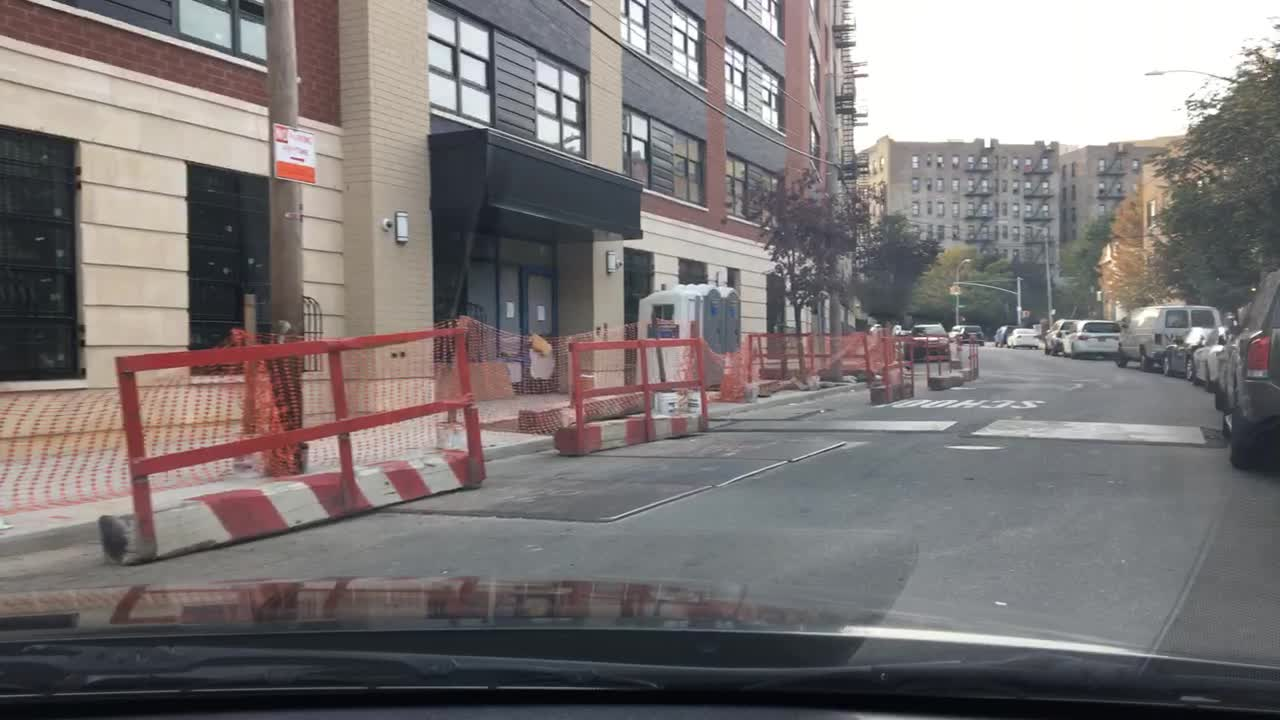car: (1157, 325, 1207, 379), (1183, 335, 1230, 392), (1062, 318, 1123, 356), (906, 320, 952, 359), (1043, 319, 1075, 352), (946, 323, 985, 345), (1010, 327, 1037, 350), (994, 326, 1013, 345)
traffic light: (948, 283, 959, 296)
traffic sign: (270, 123, 319, 182)
truck: (1112, 308, 1217, 372)
